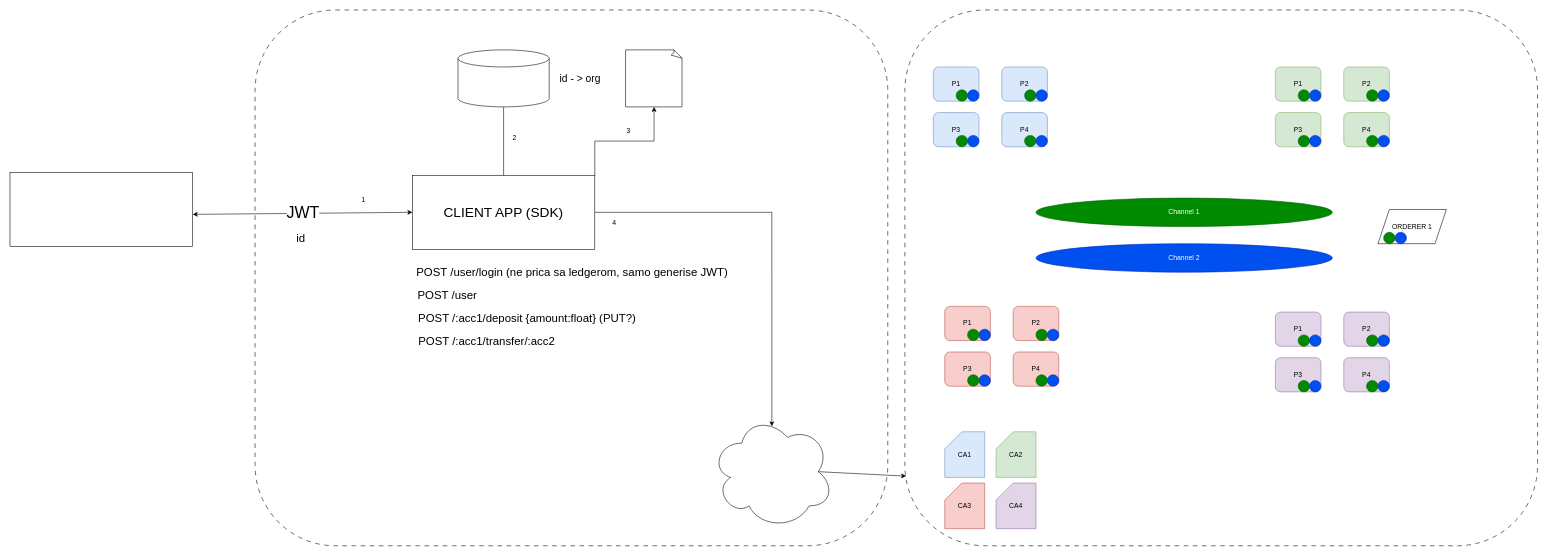
The diagram is 1548 pixels wide and 556 high, and some of its shapes have lost their labels. The centre of each missing label's shape, as x and y in pixels:
"Choose CA depending on source account" goes at point (772, 471).
"POSTMAN" goes at point (100, 209).
"User DB" goes at point (503, 78).
"Wallets" goes at point (654, 78).
